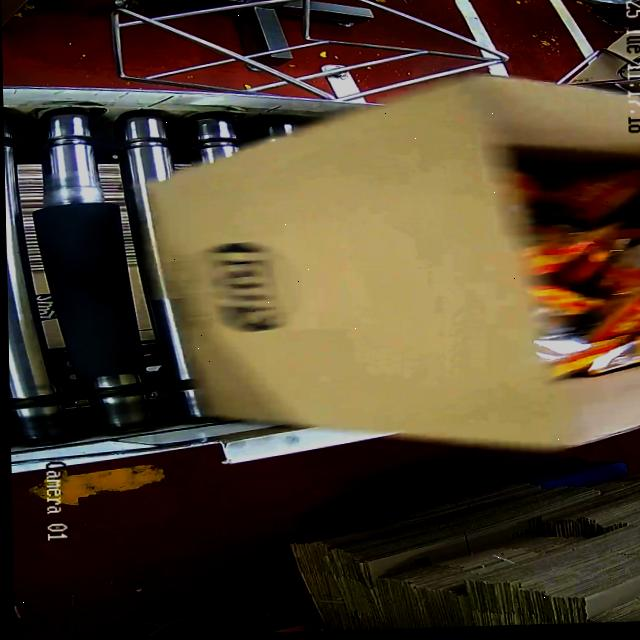FRENCH_CHEESE: (510, 163, 640, 406)
